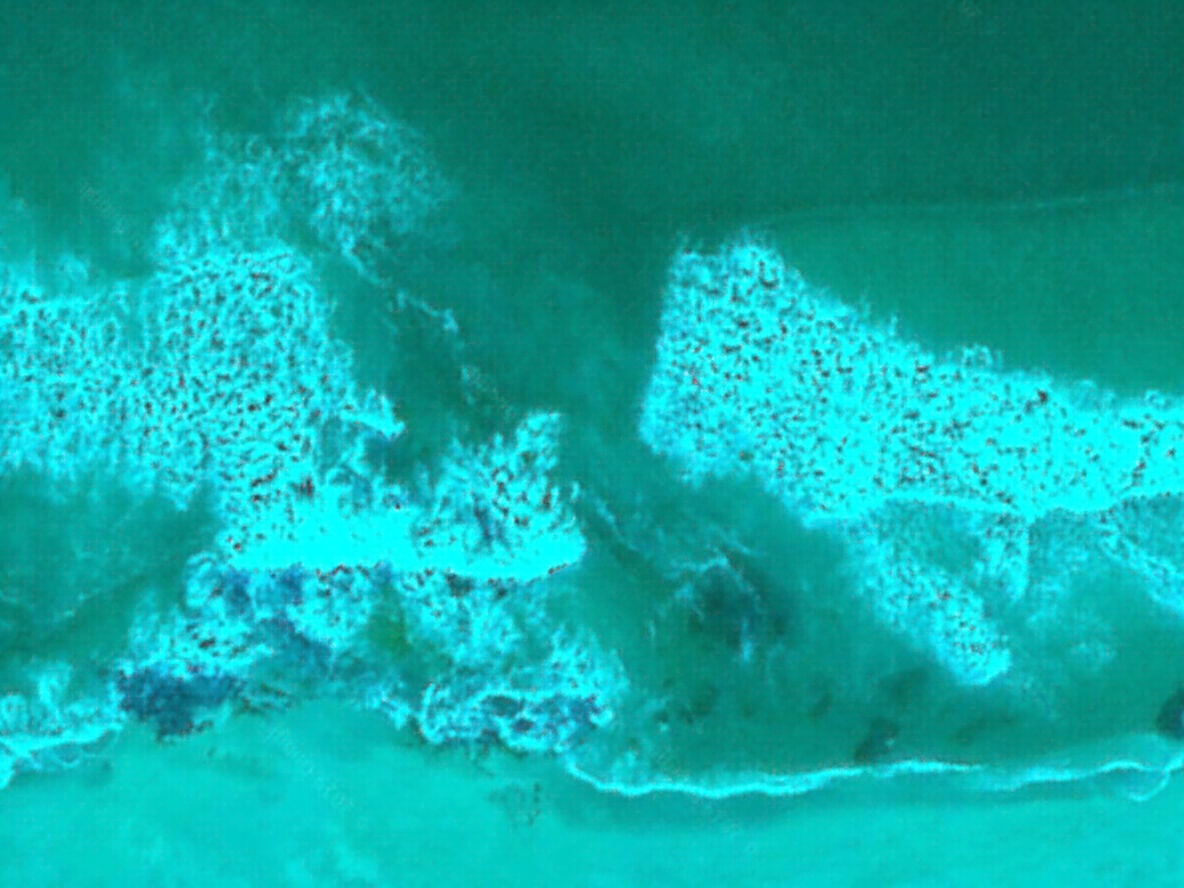rip_current: (403, 197, 961, 724)
